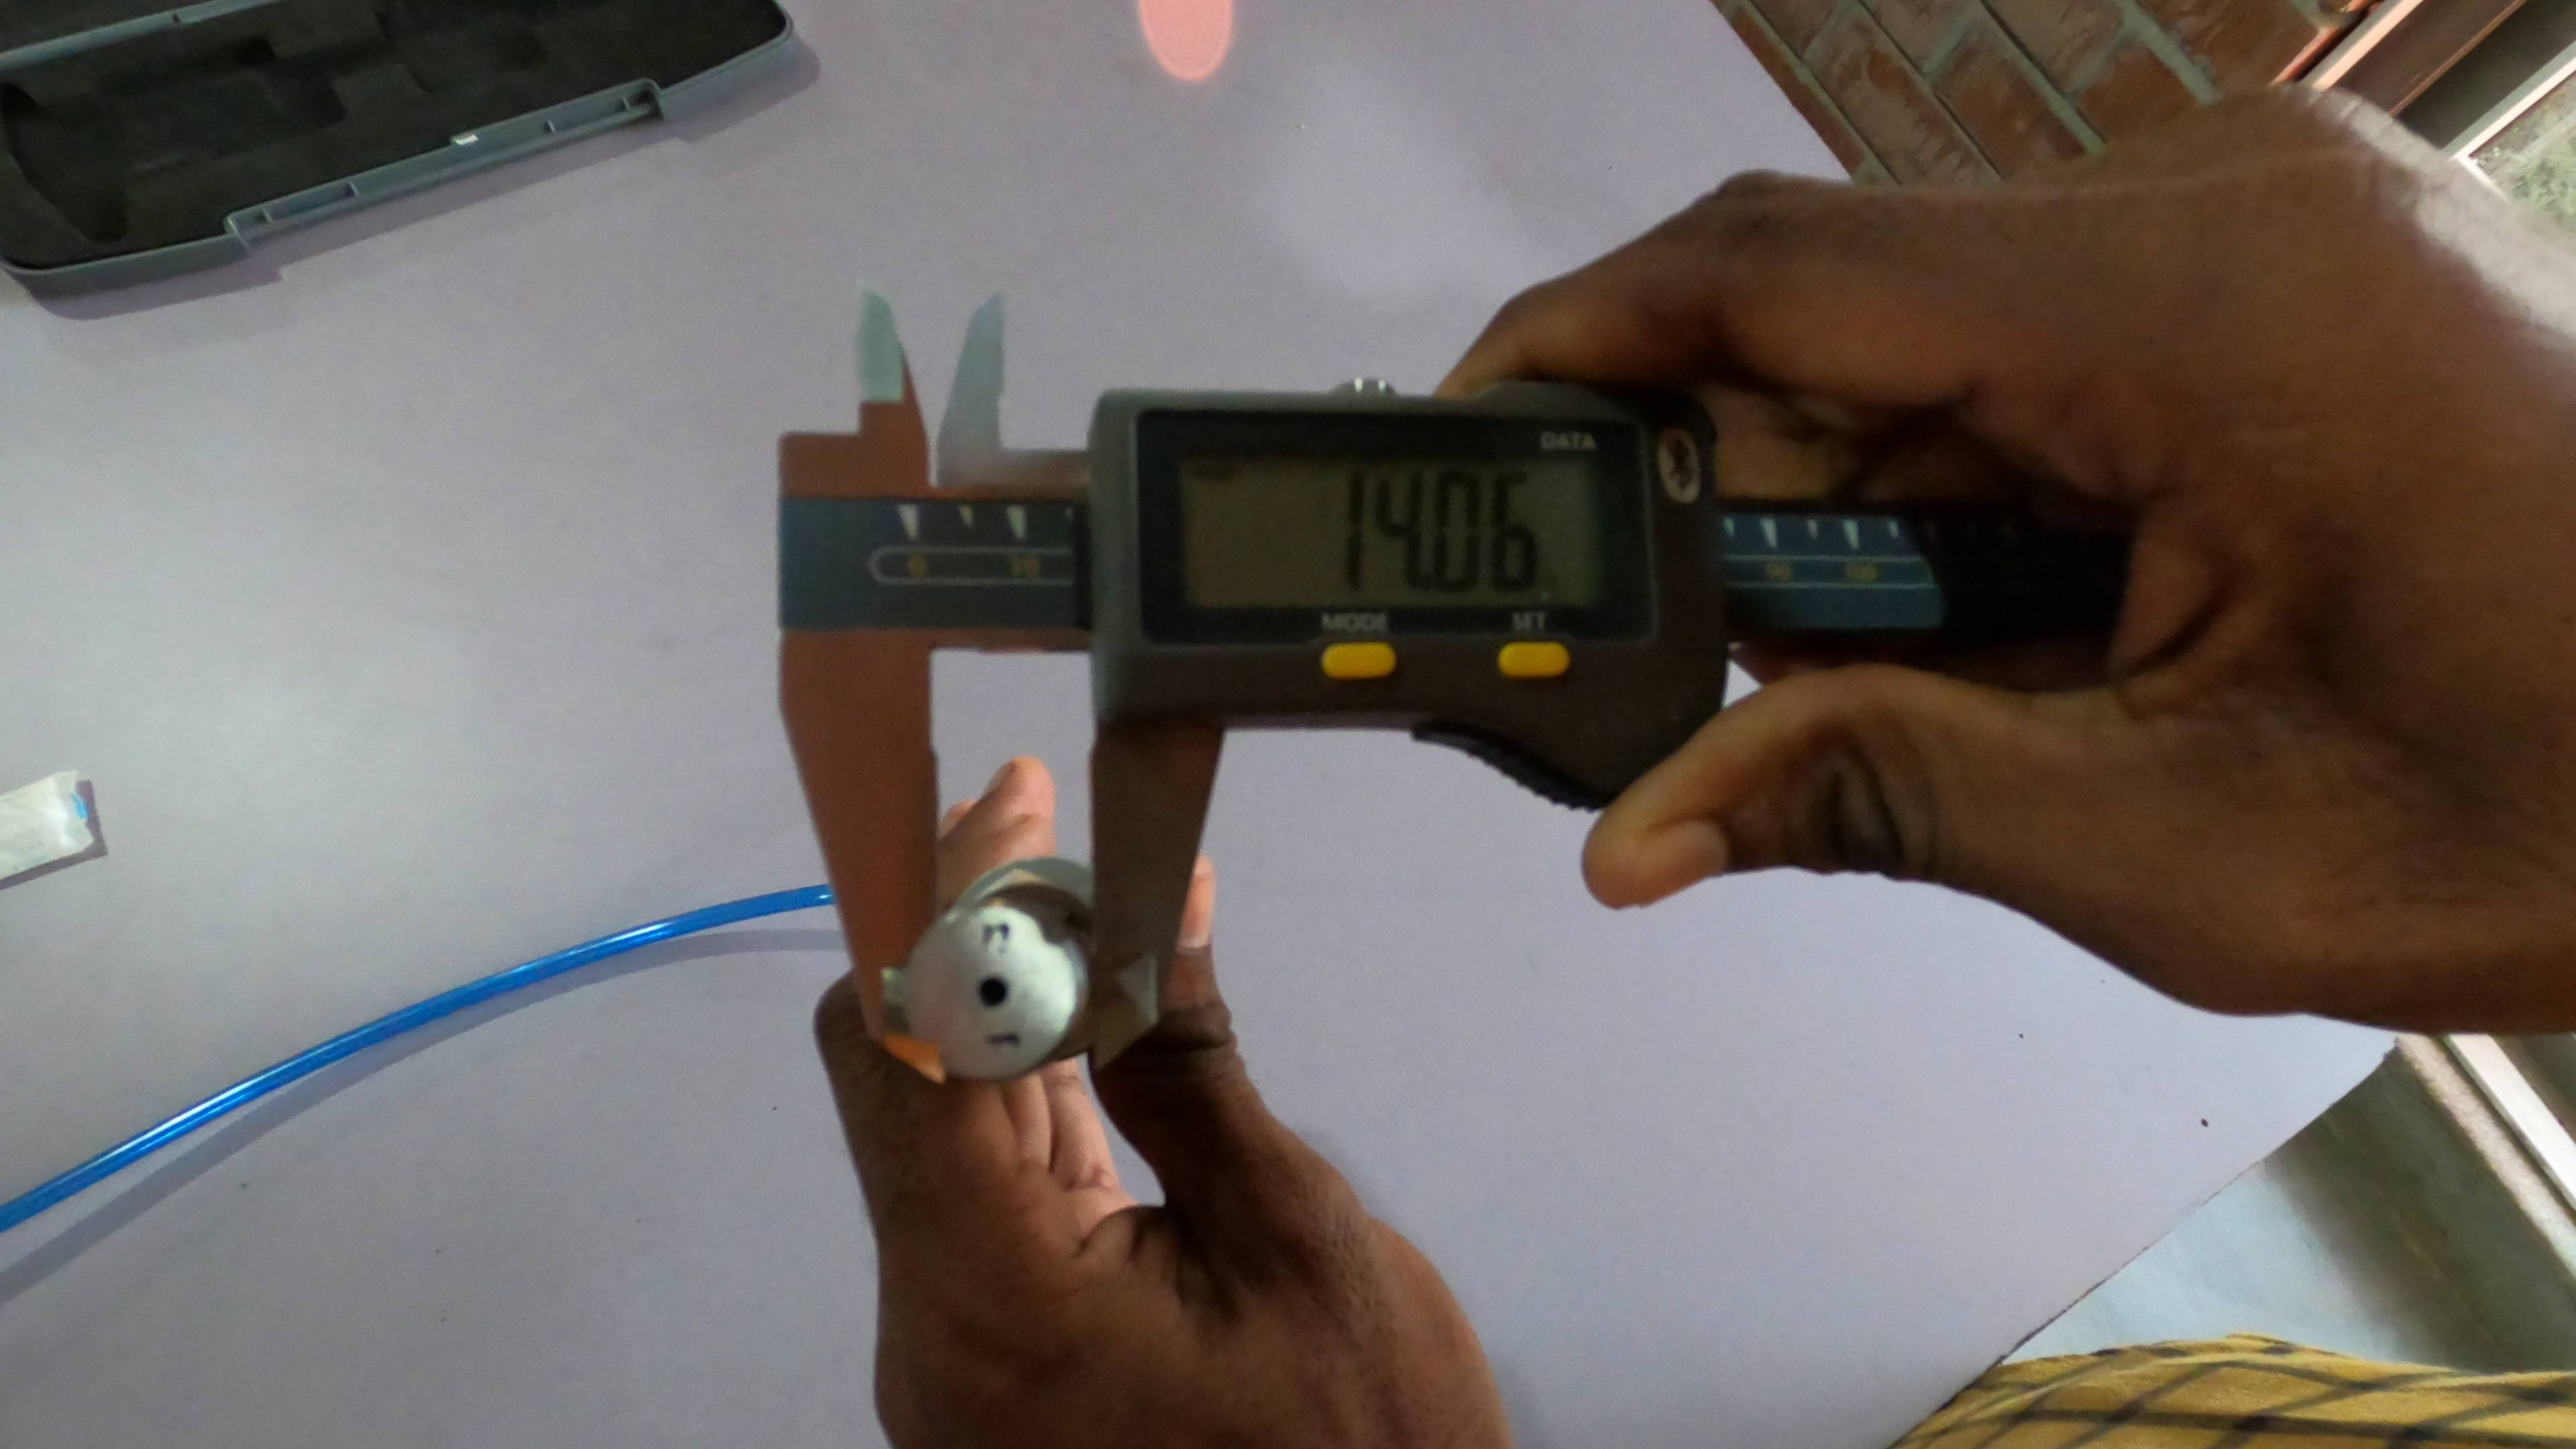vernier_caliper: (768, 271, 2114, 1083)
